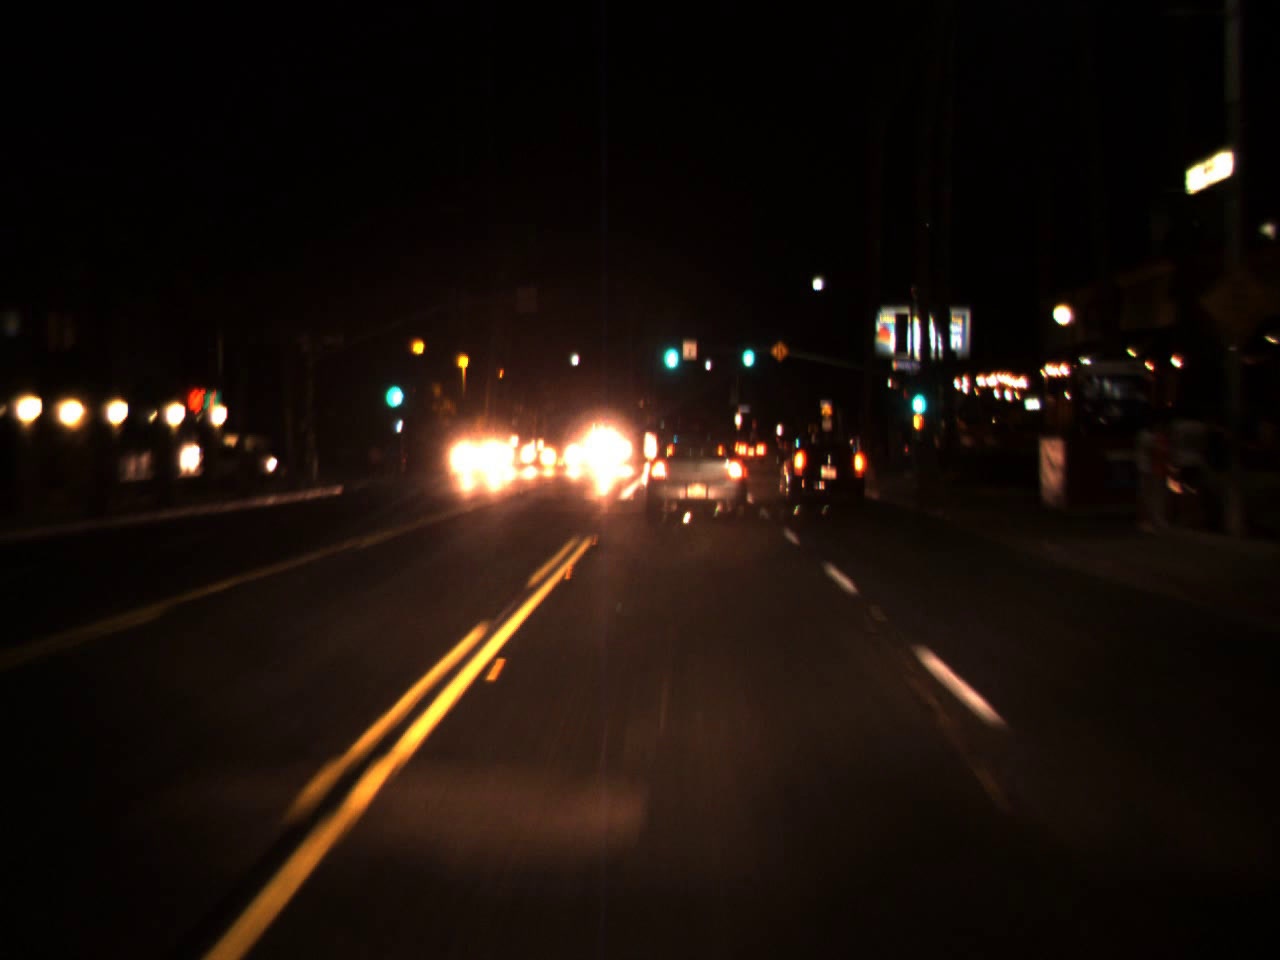go: (380, 358, 403, 415), (905, 369, 928, 420), (739, 326, 757, 374), (659, 332, 680, 371)
